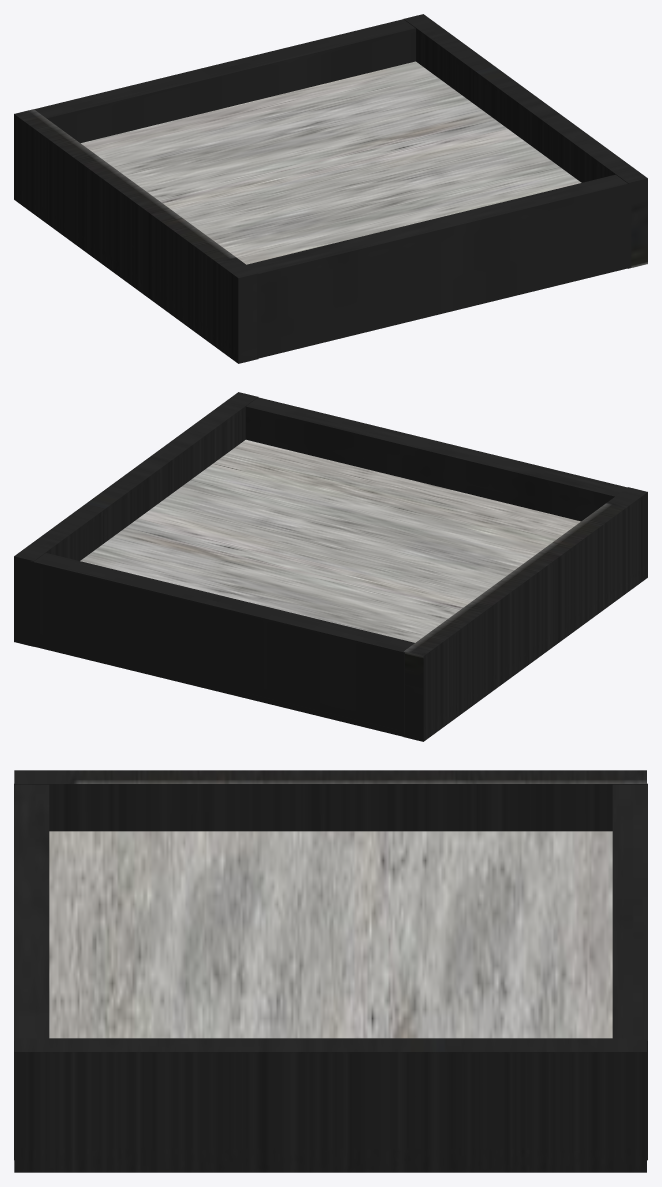
Rendered from snow.dae.
The picture shows the model from 3 angles, top to bottom: view 1: azimuth 30°, elevation 25°; view 2: azimuth 150°, elevation 25°; view 3: azimuth 270°, elevation 25°; orthographic projection. The views are drawn at different scales.
Visible parts, largest first — view 1: Cube_002; view 2: Cube_002; view 3: Cube_002.
Part boxes in pixels (bbox=[...]): Cube_002: bbox=[14, 14, 647, 363]; Cube_002: bbox=[14, 392, 647, 741]; Cube_002: bbox=[14, 770, 647, 1172].
Bounding box in the file's own units: 0.1391 × 0.1324 × 0.0282.
Materials: 1 (1 with a texture image).
